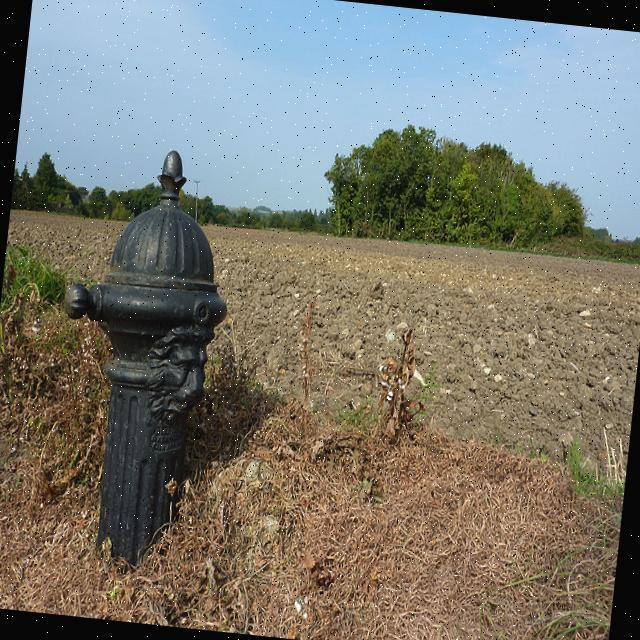fire_hydrant: (34, 140, 244, 582)
